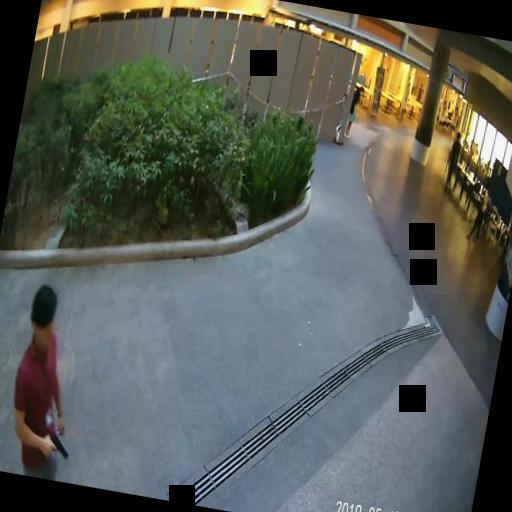Handgun: (44, 428, 70, 460)
